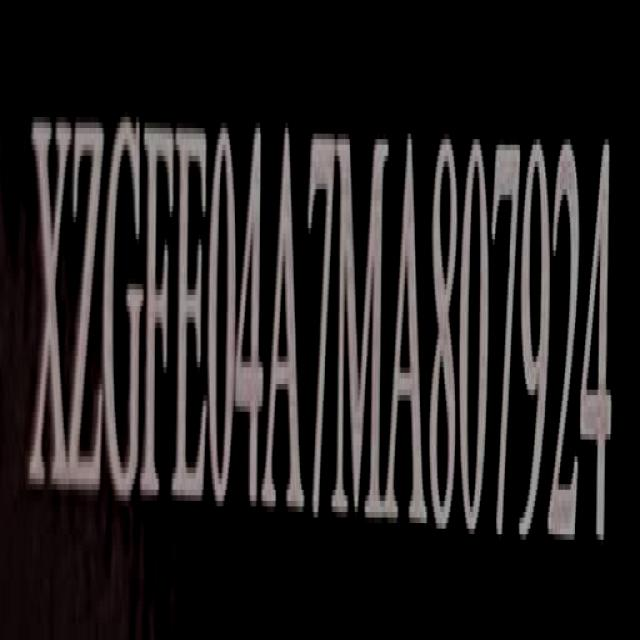0: (457, 125, 491, 542), (209, 120, 236, 509)
2: (553, 135, 581, 553)
4: (580, 135, 614, 552), (237, 114, 266, 518)
7: (492, 131, 522, 549), (306, 123, 336, 538)
8: (427, 122, 461, 542)
9: (520, 132, 552, 548)
A: (267, 116, 302, 529), (391, 124, 426, 536)
E: (178, 107, 211, 527)
F: (145, 106, 176, 527)
G: (106, 109, 143, 520)
M: (336, 121, 388, 531)
X: (32, 102, 69, 513)
Z: (67, 108, 104, 513)
